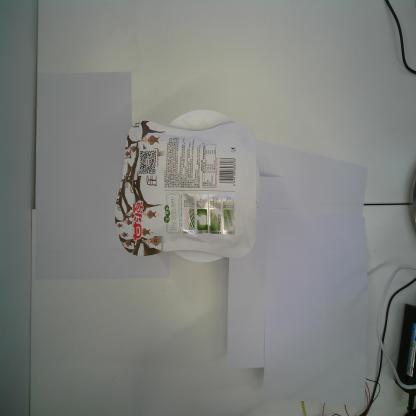Dried Fruit: (114, 118, 259, 258)
